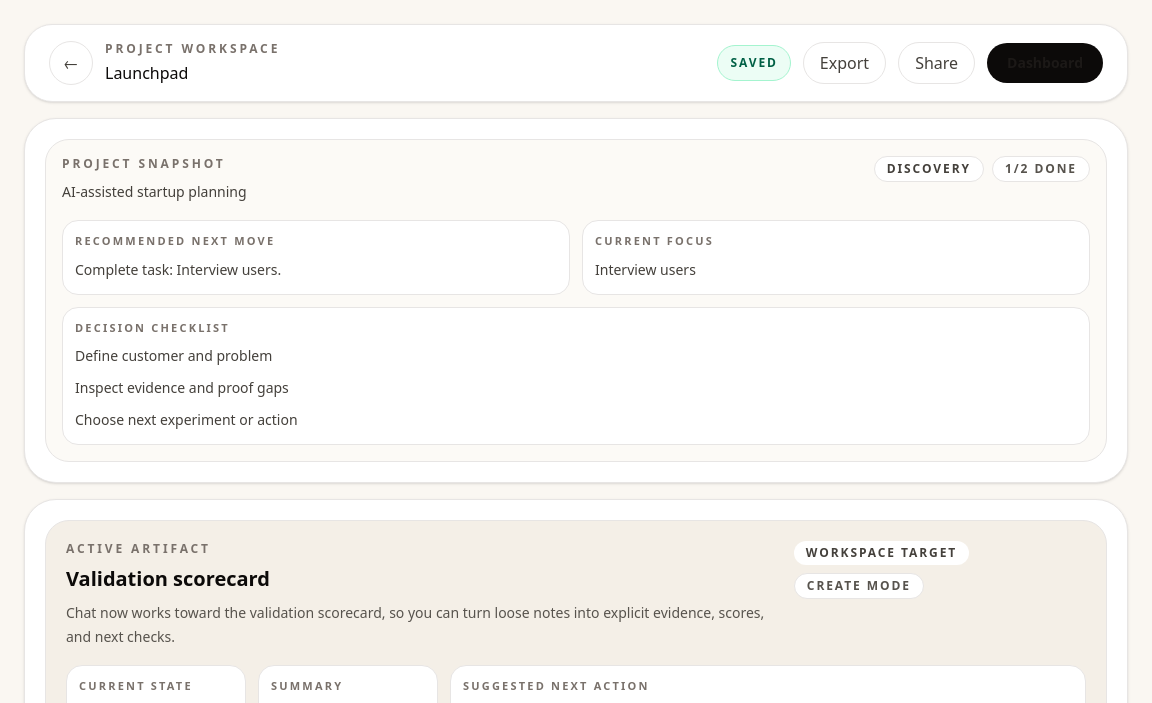
Test: ProjectWorkspacePage › keeps the latest save result when overlapping saves complete out of order
The image size is (1152, 703).
Replace the text in the field named "Project name" with "First rename" at (265, 73), box [105,61,425,85]
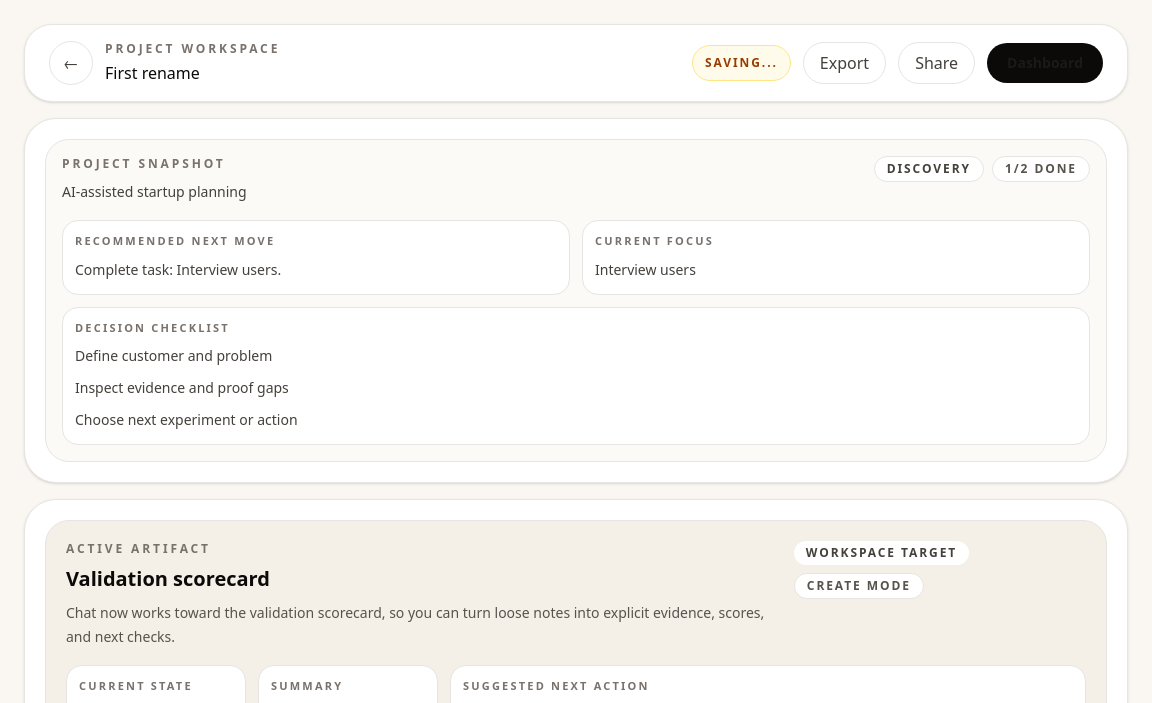
Replace the text in the field named "Project name" with "Second rename" at (265, 73), box [105,61,425,85]
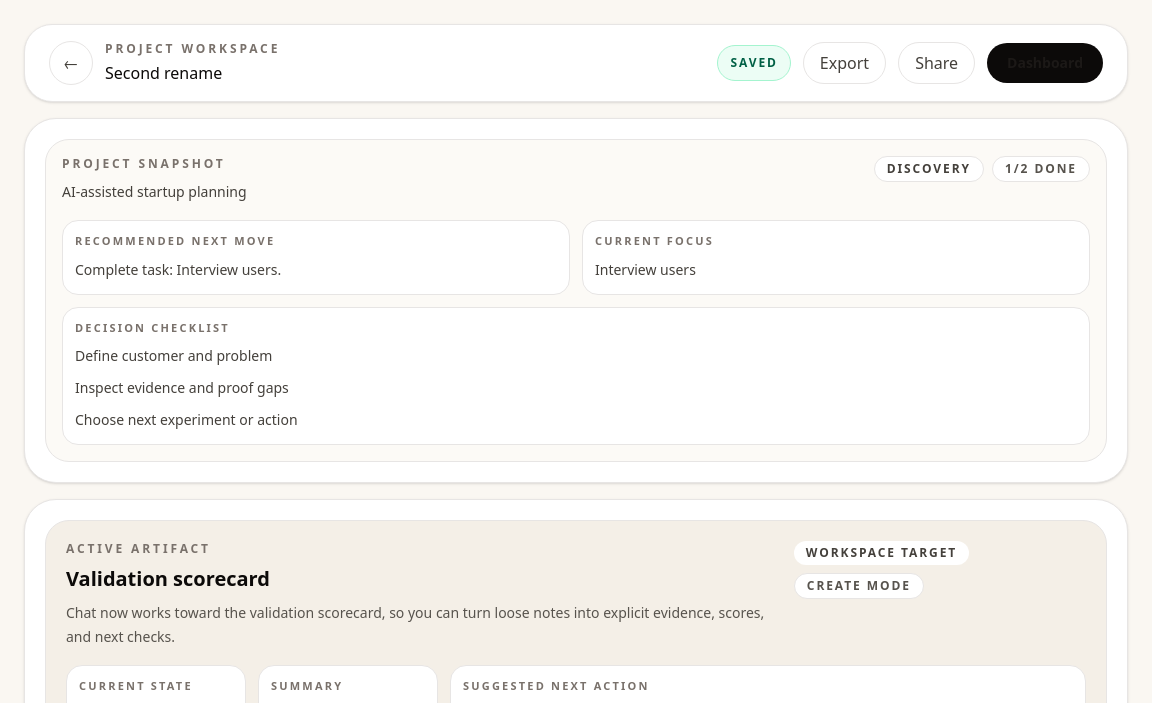
Result: the text "Saved" is shown at [717,45,791,81]
